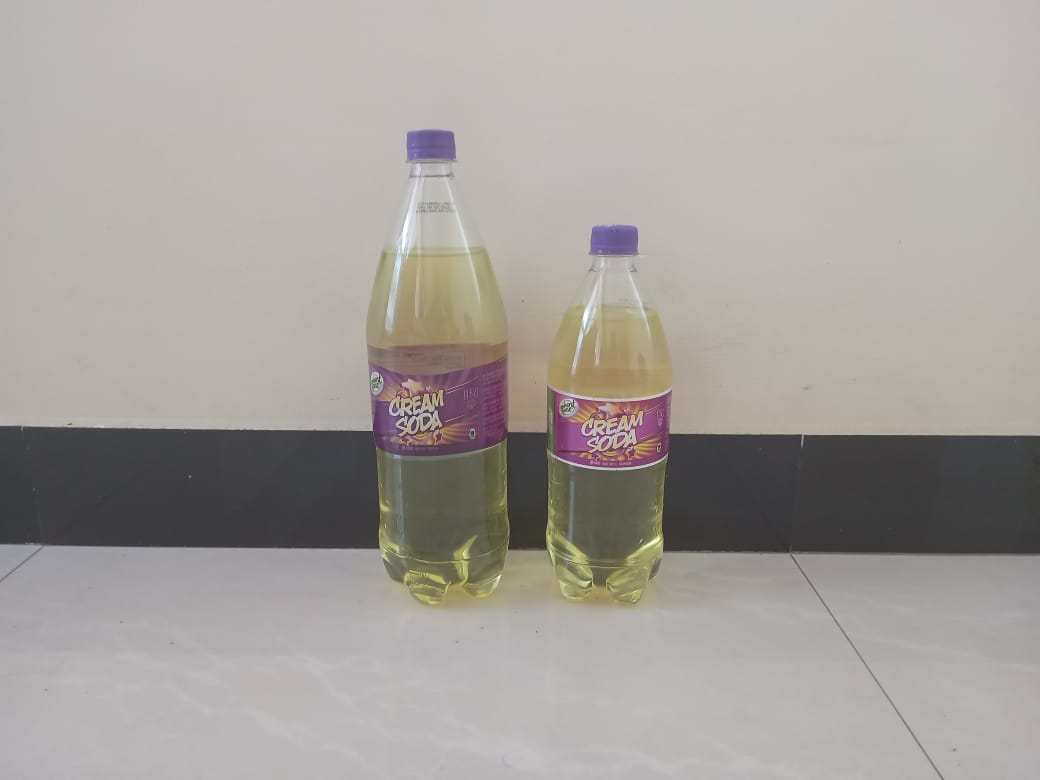L: (365, 130, 511, 605)
M: (545, 223, 675, 609)
